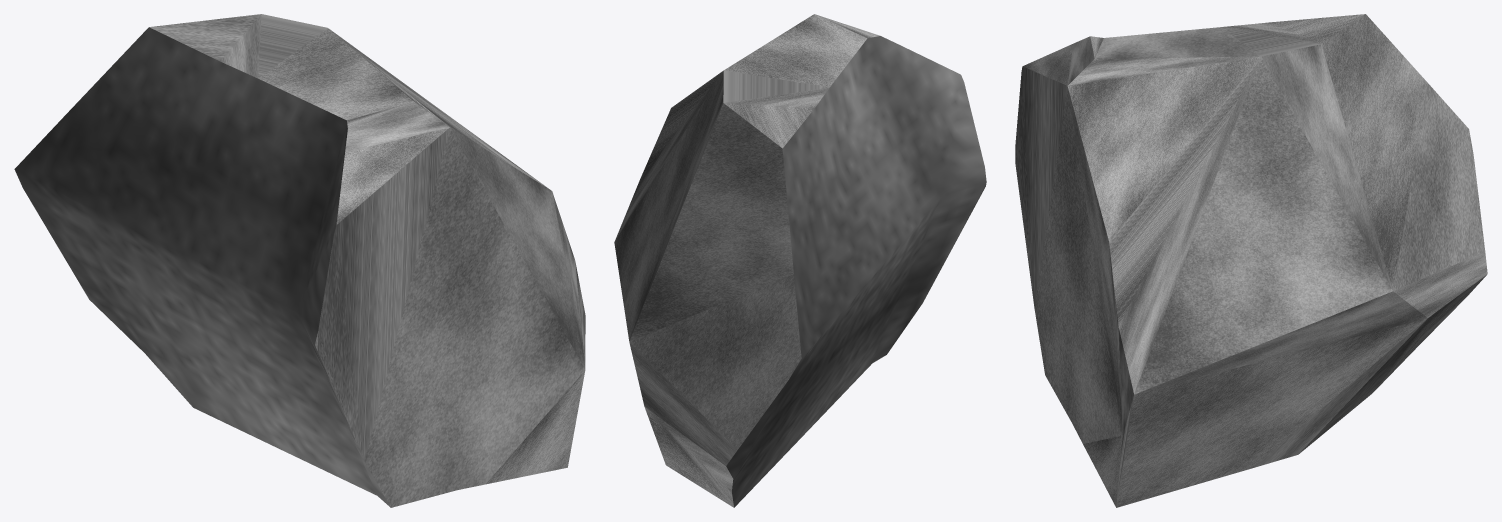
File: body_cell_008.fbx
3 renders of one model, left to right at view 1: azimuth 30°, elevation 25°; view 2: azimuth 150°, elevation 25°; view 3: azimuth 270°, elevation 25°, orthographic. The views are drawn at different scales.
Visible parts, largest first — view 1: body_cell.008; view 2: body_cell.008; view 3: body_cell.008.
Boxes of the visible parts, box(x1,y1,x2,y2) form: body_cell.008: box(14, 14, 585, 507); body_cell.008: box(614, 14, 986, 507); body_cell.008: box(1015, 14, 1487, 507).
Size of the model in its own units: 43.07 by 44.81 by 50.4.
